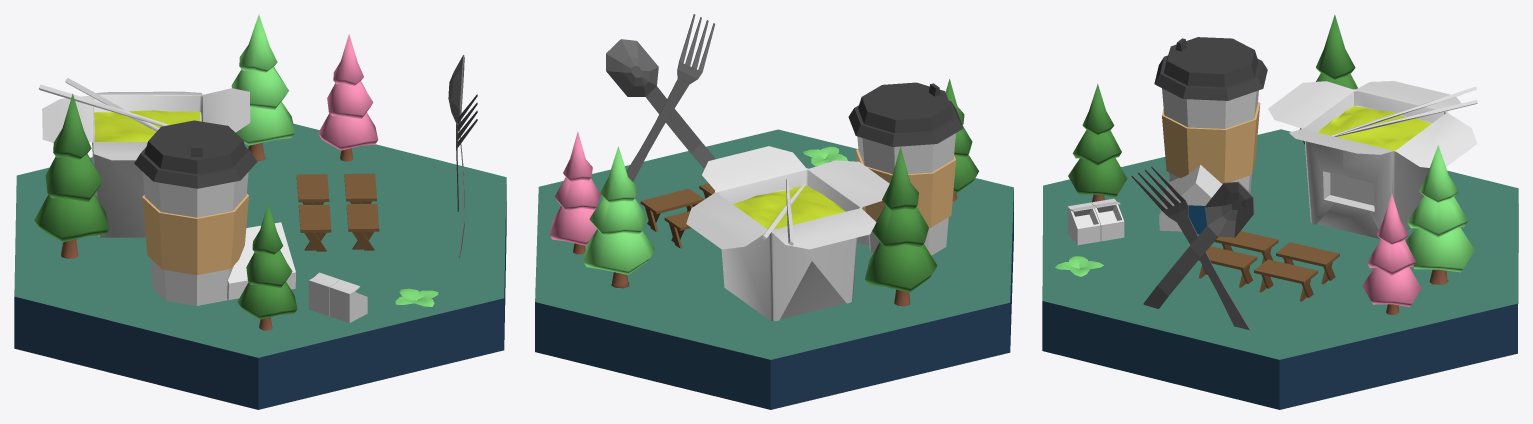
File: Macro - Restaurant lvl 2 WM1.fbx
The picture shows the model from 3 angles, left to right: view 1: azimuth 30°, elevation 25°; view 2: azimuth 150°, elevation 25°; view 3: azimuth 270°, elevation 25°; orthographic projection. The views are drawn at different scales.
Parts seen in each view (by area): view 1: Cylinder.176, coffee_001.002, Cube.108, Tree_Spruce_tiny_01.001, Tree_Spruce_tiny_01.004, Tree_Spruce_tiny_01.003, Tree_Spruce_tiny_01.002, Cube.003, Cube.005, table.003, table.002, Plane.116 (+5 smaller); view 2: Cylinder.176, Cube.108, coffee_001.002, Tree_Spruce_tiny_01.001, Tree_Spruce_tiny_01.004, Plane.116, Tree_Spruce_tiny_01.003, Plane.117, Tree_Spruce_tiny_01.002, table.001, Plane.011, table; view 3: Cylinder.176, Cube.108, coffee_001.002, Tree_Spruce_tiny_01.004, Tree_Spruce_tiny_01.003, Tree_Spruce_tiny_01.002, Plane.116, Plane.117, Cube.003, Tree_Spruce_tiny_01.001, table.001, Cube.005 (+5 smaller).
Part boxes in pixels (box(x1,y1,x2,y2)): Cylinder.176: box(14, 123, 506, 409); coffee_001.002: box(134, 120, 256, 305); Cube.108: box(39, 78, 250, 237); Tree_Spruce_tiny_01.001: box(34, 93, 108, 258); Tree_Spruce_tiny_01.004: box(231, 14, 295, 161); Tree_Spruce_tiny_01.003: box(318, 34, 378, 161); Tree_Spruce_tiny_01.002: box(237, 203, 297, 330); Cube.003: box(227, 222, 295, 299); Cube.005: box(329, 279, 367, 322); table.003: box(298, 204, 331, 251); table.002: box(346, 204, 379, 250); Plane.116: box(448, 55, 464, 257); Cylinder.176: box(535, 129, 1013, 409); Cube.108: box(686, 146, 889, 321); coffee_001.002: box(848, 82, 963, 255); Tree_Spruce_tiny_01.001: box(865, 146, 937, 306); Tree_Spruce_tiny_01.004: box(583, 146, 654, 288); Plane.116: box(606, 39, 715, 167); Tree_Spruce_tiny_01.003: box(549, 131, 600, 254); Plane.117: box(626, 14, 715, 181); Tree_Spruce_tiny_01.002: box(945, 79, 978, 201); table.001: box(640, 188, 704, 231); Plane.011: box(803, 146, 847, 166); table: box(664, 211, 691, 248); Cylinder.176: box(1042, 129, 1518, 409); Cube.108: box(1268, 81, 1477, 238); coffee_001.002: box(1154, 37, 1267, 192); Tree_Spruce_tiny_01.004: box(1405, 145, 1474, 284); Tree_Spruce_tiny_01.003: box(1362, 194, 1421, 315); Tree_Spruce_tiny_01.002: box(1068, 83, 1127, 202); Plane.116: box(1143, 181, 1254, 308); Plane.117: box(1131, 166, 1249, 330); Cube.003: box(1159, 164, 1222, 231); Tree_Spruce_tiny_01.001: box(1299, 14, 1357, 144); table.001: box(1254, 259, 1317, 301); Cube.005: box(1067, 202, 1100, 245).
Size of the model in its own units: 197 by 82.22 by 172.
